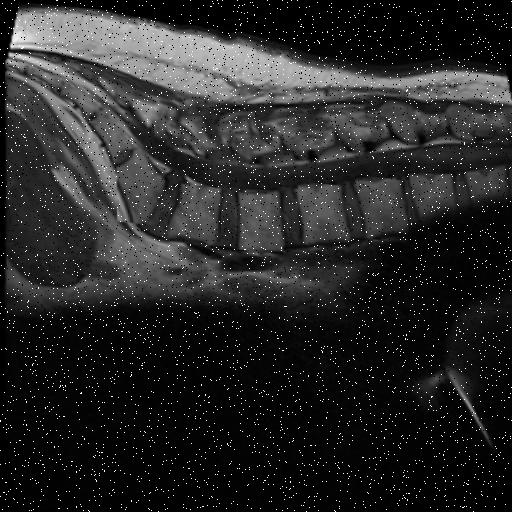L1: (408, 165, 452, 210)
L2: (354, 169, 406, 230)
L3: (296, 177, 347, 238)
L4: (237, 187, 282, 246)
L5: (168, 180, 219, 240)
S1: (115, 147, 163, 221)
